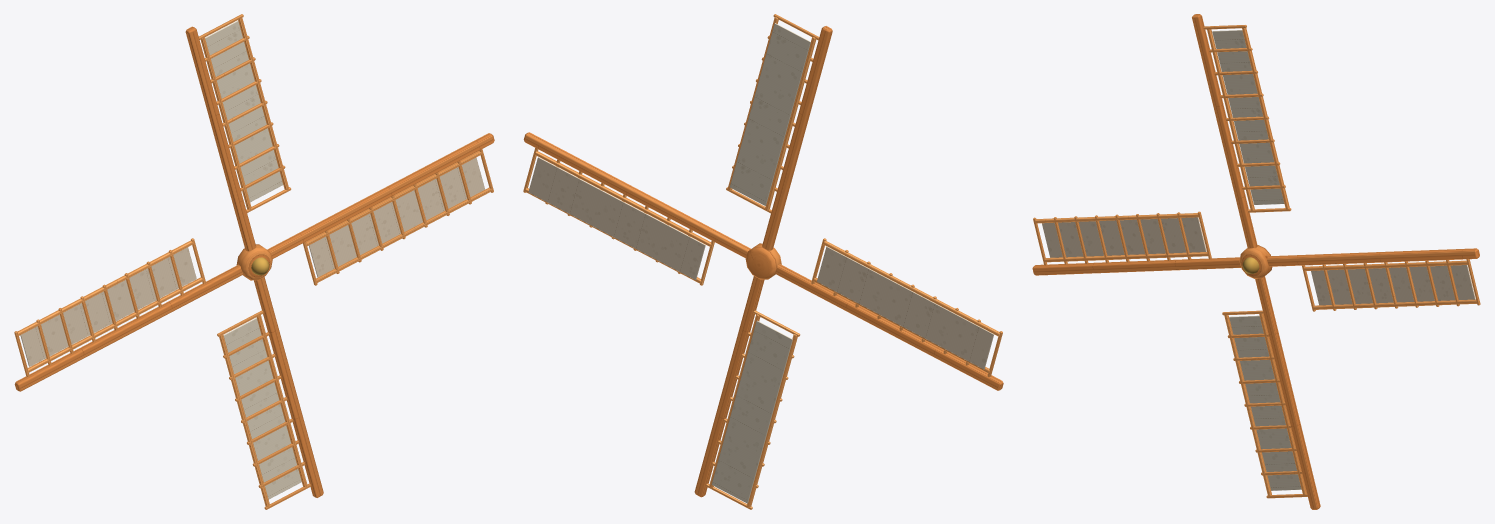
Rendered from region-windmill-0.glb.
3 views of the same model, side by side, from view 1: azimuth 30°, elevation 25°; view 2: azimuth 150°, elevation 25°; view 3: azimuth 330°, elevation 25° (orthographic). The views are drawn at different scales.
Parts seen in each view (by area): view 1: props_wood, props_sail; view 2: props_sail, props_wood; view 3: props_wood, props_sail.
Boxes of the visible parts, <box> form: props_wood: <box>14,14,494,509</box>; props_sail: <box>20,20,484,499</box>; props_sail: <box>528,23,993,503</box>; props_wood: <box>523,14,1003,509</box>; props_wood: <box>1032,14,1480,509</box>; props_sail: <box>1042,30,1475,490</box>.
Size of the model in its own units: 10.48 by 10.48 by 0.5512.
3 materials, 2 textured.
